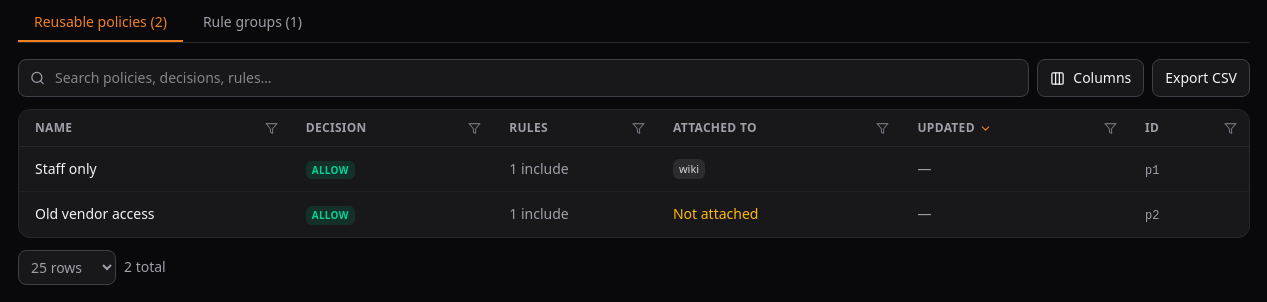
Test: GroupsPage tabs › filters the table by search
Type "vendor" into the search field at [524, 78], box [18,59,1029,97]
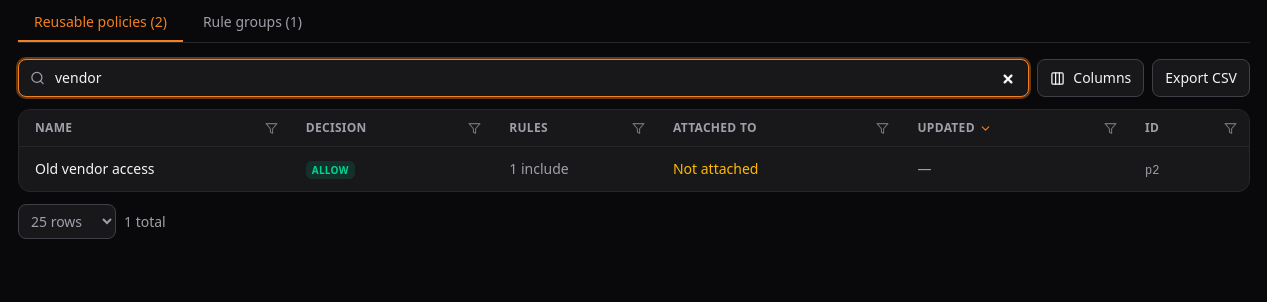
Expected: the text "Old vendor access" is shown, [35,159,155,178]
Now the text "Staff only" is gone
